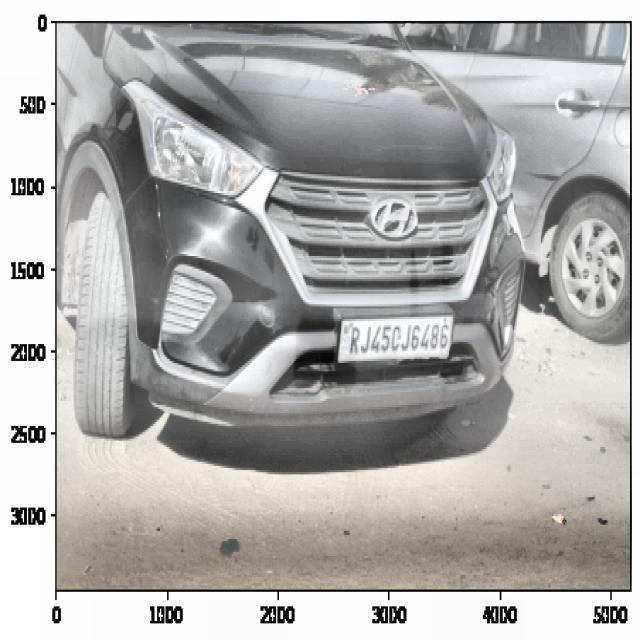license_plate: (341, 314, 456, 357)
